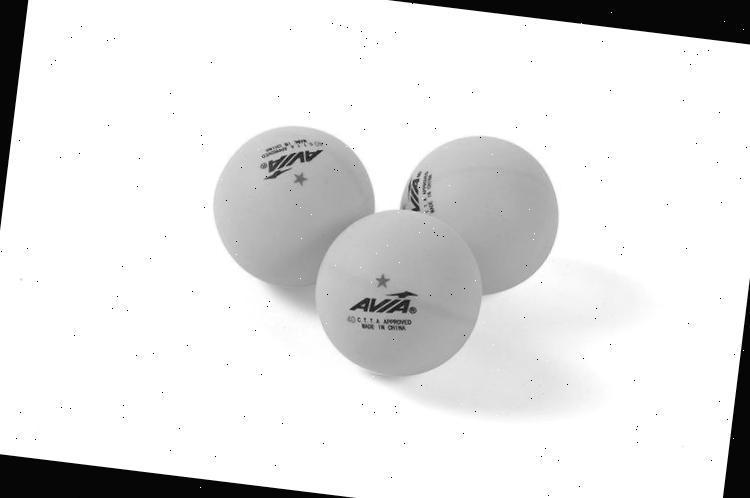ball: (301, 195, 493, 387), (196, 110, 387, 302), (384, 120, 570, 306)
